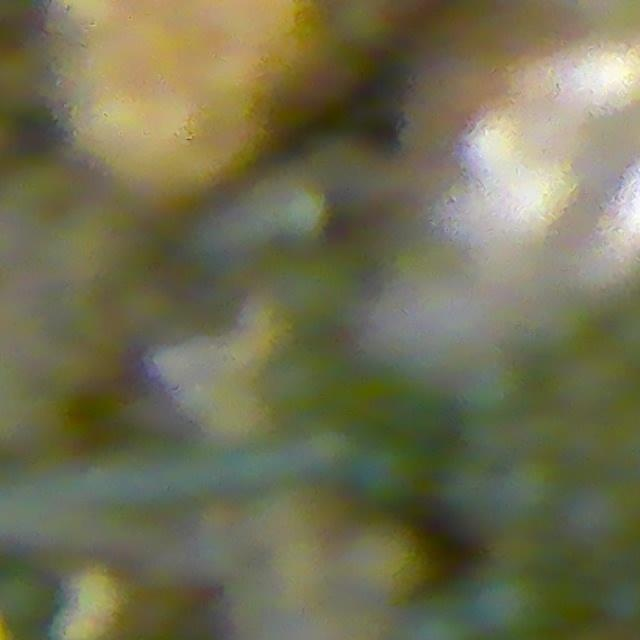SeaGrape: (469, 565, 557, 640), (351, 433, 426, 508)
